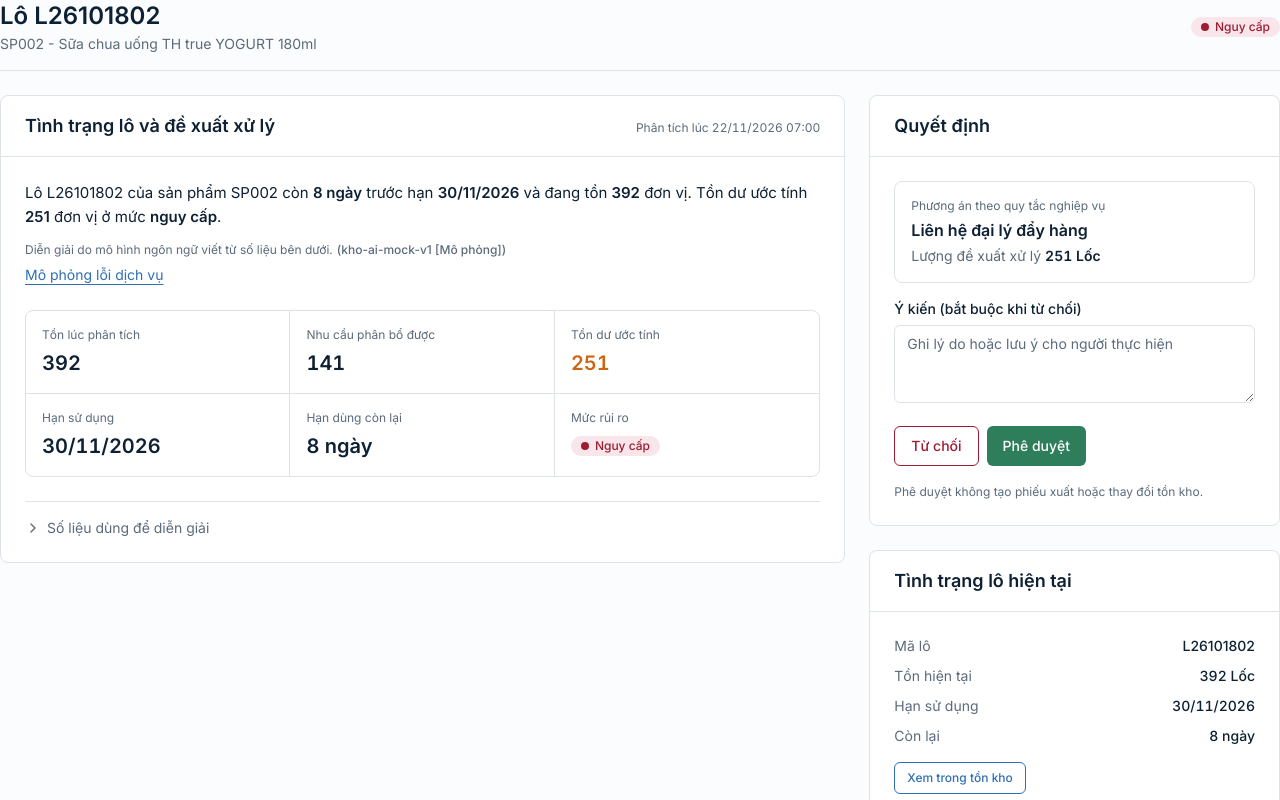
Scenario: ProposalDetailPage — Diễn giải LLM & Khối Quyết định (T-014 + T-015 AC9, mockup 22–26) › khi API trả 409 (đề xuất đã có quyết định trước đó) → hiển thị thông báo lỗi và tải lại dữ liệu
Click the button "Phê duyệt" at {"x": 1036, "y": 446}, box [986,426,1086,466]
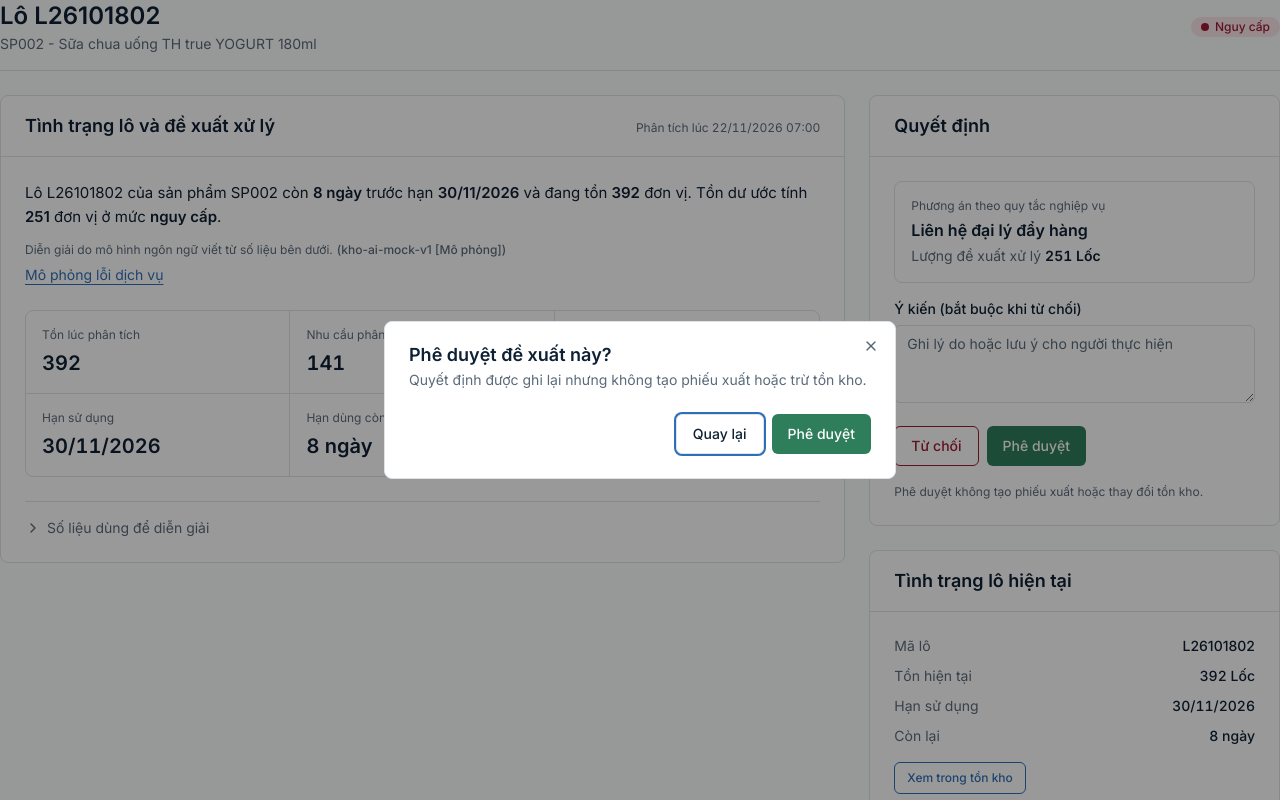
Click the button "Phê duyệt" at {"x": 821, "y": 434}, box [772,414,871,454]
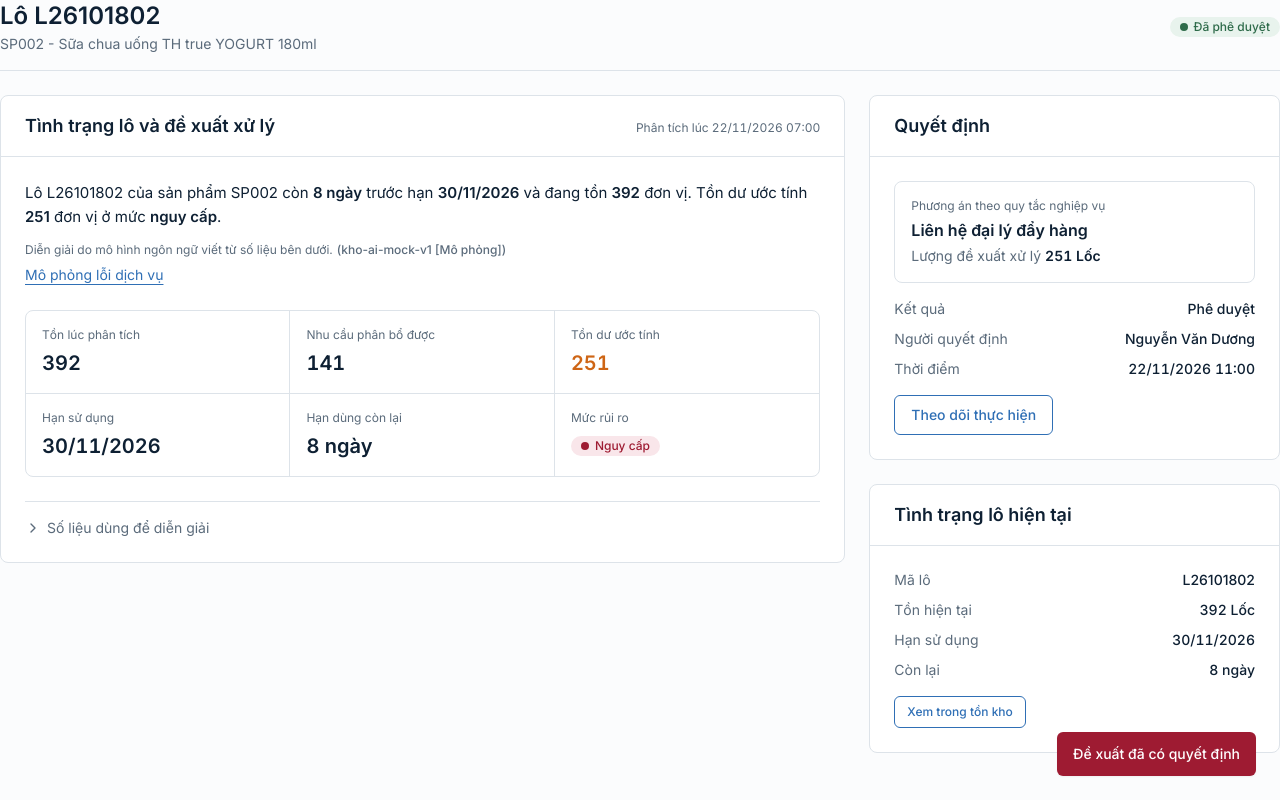
Result: the text "Đề xuất đã có quyết định" is shown at [1057,732,1256,776]
Result: the link "Theo dõi thực hiện" is shown at [894,395,1053,435]
